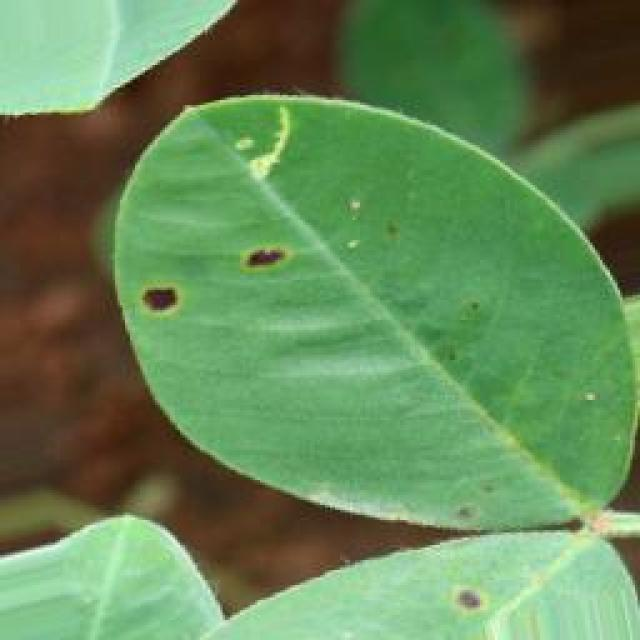Sigatoka: (420, 276, 509, 376), (120, 246, 198, 348), (222, 222, 296, 310), (440, 573, 516, 639), (365, 201, 426, 283), (425, 466, 507, 524)
